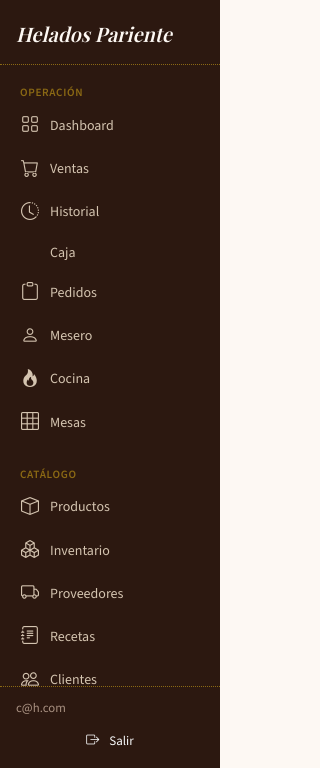
it: Sidebar logout › muestra error si signOut falla y no navega
Click the button "Salir". click: click(110, 740)
box: [16, 724, 204, 756]
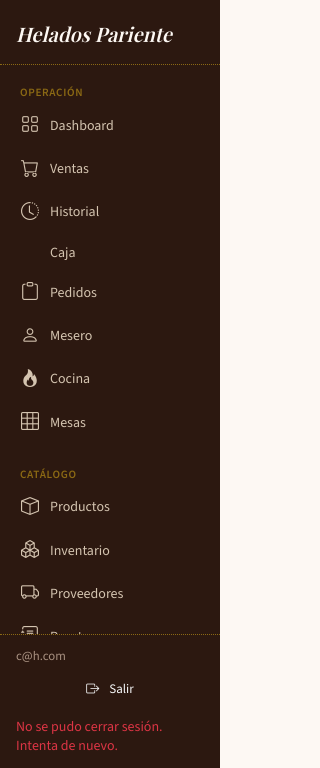
Expected: the message "No se pudo cerrar sesión. Intenta de nuevo." is shown, [16, 717, 163, 755]
